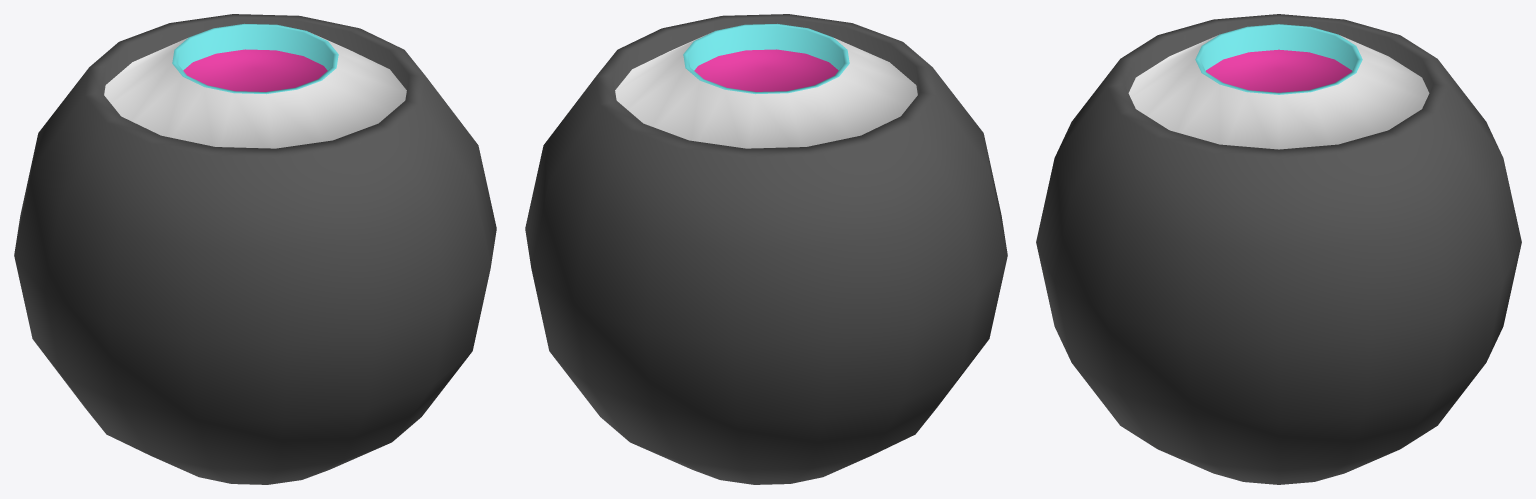
Rendered from eye.fbx.
The picture shows the model from 3 angles, left to right: view 1: azimuth 30°, elevation 25°; view 2: azimuth 150°, elevation 25°; view 3: azimuth 270°, elevation 25°; orthographic projection.
Visible parts, largest first — view 1: Eye; view 2: Eye; view 3: Eye.
Boxes of the visible parts, x1,y1,x2,y2 form: Eye: (14, 14, 496, 484); Eye: (525, 14, 1007, 484); Eye: (1036, 14, 1521, 484).
Size of the model in its own units: 200 by 183 by 200.
